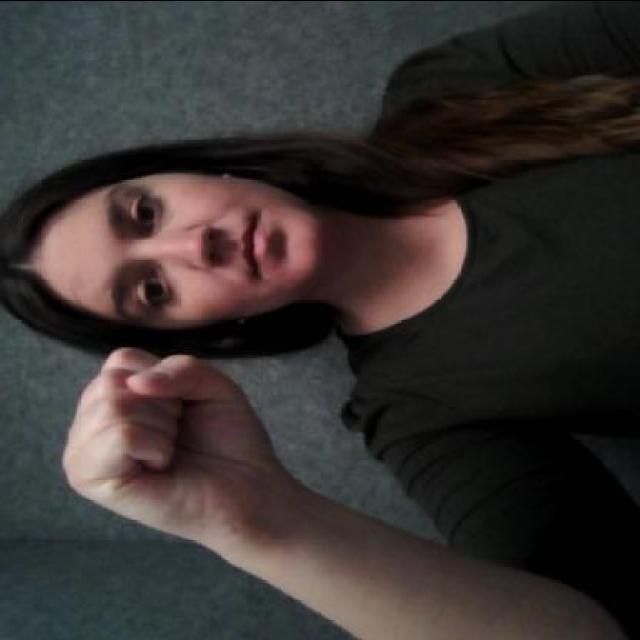Rock: (52, 337, 294, 537)
